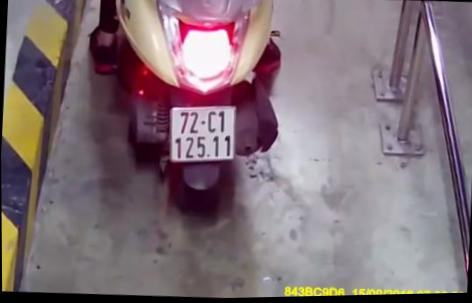LP: (167, 100, 238, 168)
